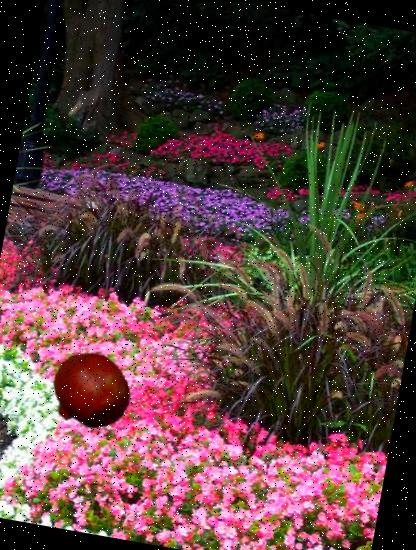Pomegranate: (43, 345, 138, 440)
